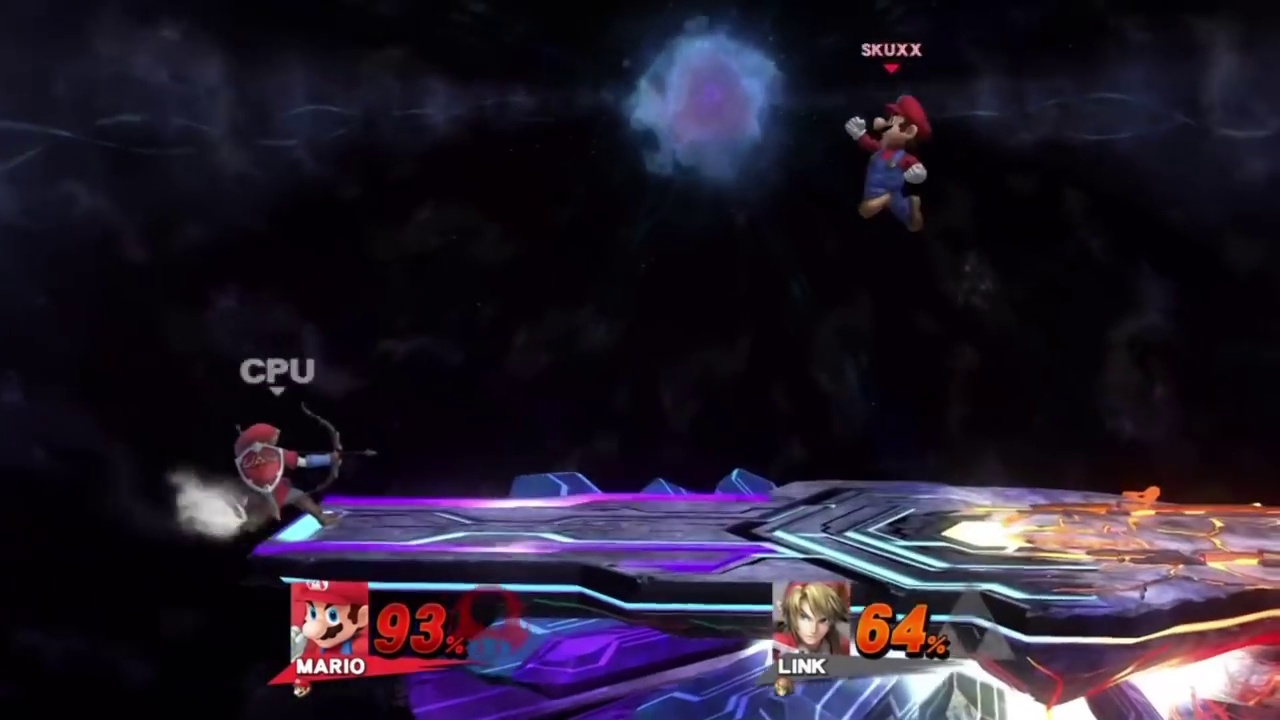Mario: (846, 93, 926, 238)
